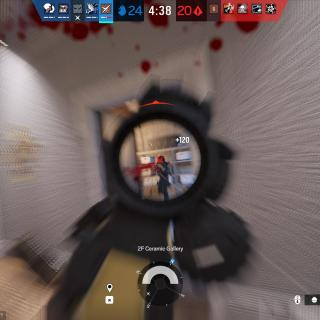Character: (153, 155, 175, 200)
Head: (158, 155, 165, 164)
